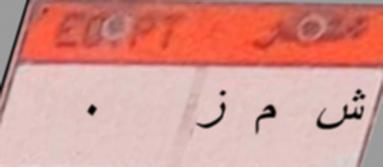0: (79, 96, 108, 128)
meem: (249, 96, 278, 148)
sheen: (313, 86, 368, 140)
zay: (192, 84, 232, 138)
